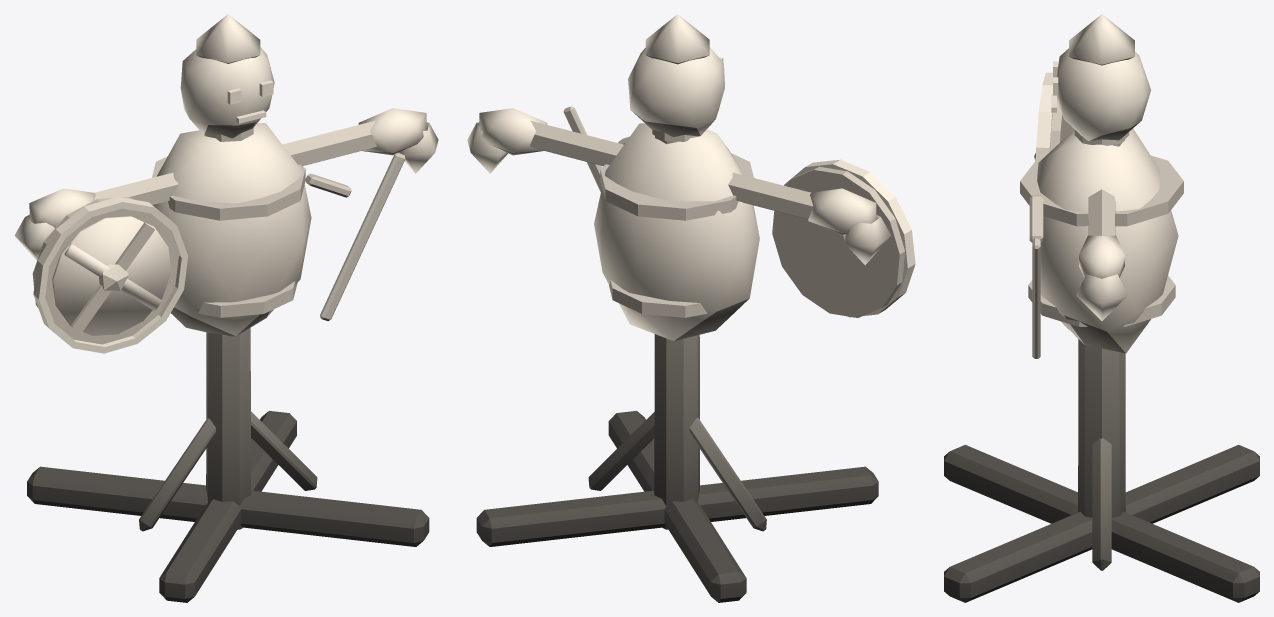
File: SM_VK_Prop_TrainingDummy.fbx
3 renders of one model, left to right at view 1: azimuth 30°, elevation 25°; view 2: azimuth 150°, elevation 25°; view 3: azimuth 270°, elevation 25°, orthographic. The views are drawn at different scales.
Parts seen in each view (by area): view 1: SM_VK_Prop_TrainingDummy.001; view 2: SM_VK_Prop_TrainingDummy.001; view 3: SM_VK_Prop_TrainingDummy.001.
Part boxes in pixels (box(x1,y1,x2,y2)): SM_VK_Prop_TrainingDummy.001: box(14, 14, 438, 602); SM_VK_Prop_TrainingDummy.001: box(467, 14, 915, 602); SM_VK_Prop_TrainingDummy.001: box(944, 14, 1259, 602).
Bounding box in the file's own units: 1.85 × 2.12 × 1.16.
